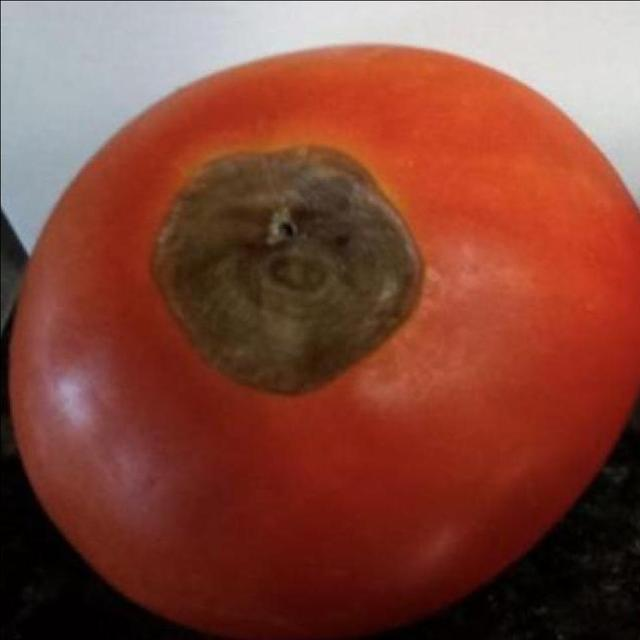Blossom End Rot Fruit: (101, 92, 279, 264)
